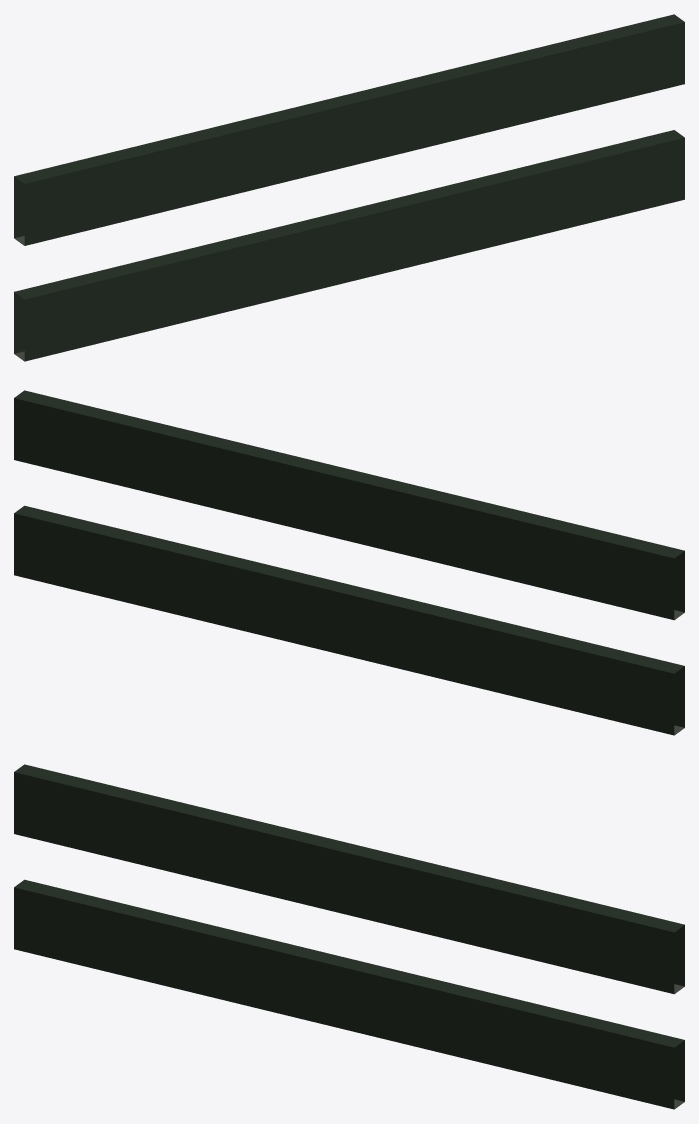
File: SF_Prop_Fence_Wood_03.glb
3 renders of one model, top to bottom at view 1: azimuth 30°, elevation 25°; view 2: azimuth 150°, elevation 25°; view 3: azimuth 330°, elevation 25°, orthographic.
Visible parts, largest first — view 1: SF_Prop_Fence_Wood_03; view 2: SF_Prop_Fence_Wood_03; view 3: SF_Prop_Fence_Wood_03.
Part boxes in pixels (x1,y1,x2,y2): SF_Prop_Fence_Wood_03: (14,14,684,361); SF_Prop_Fence_Wood_03: (14,390,684,735); SF_Prop_Fence_Wood_03: (14,764,684,1109).
Size of the model in its own units: 0.0496 by 0.0127 by 0.00149.
1 material, 1 textured.
